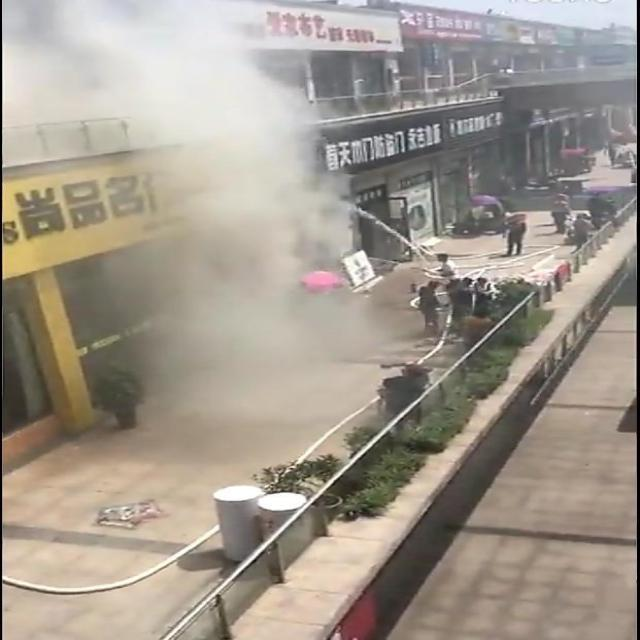Smoke: (2, 1, 382, 425)
